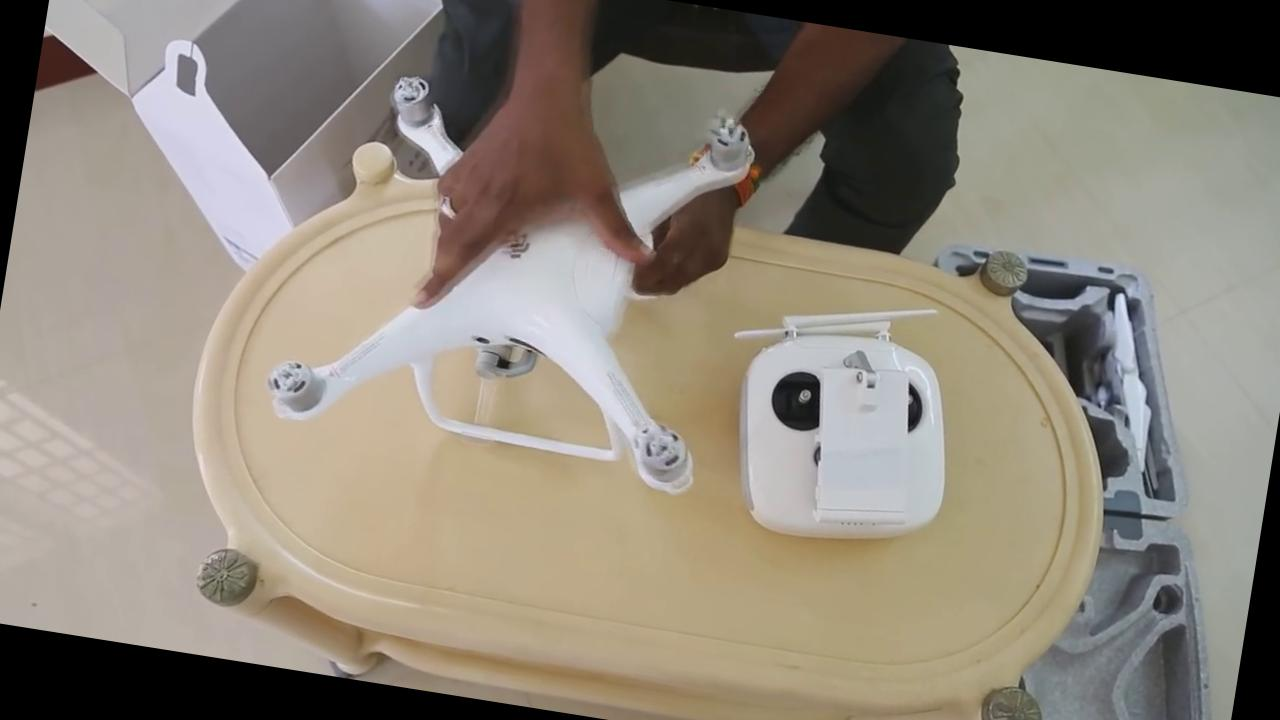drone: (235, 35, 791, 526)
